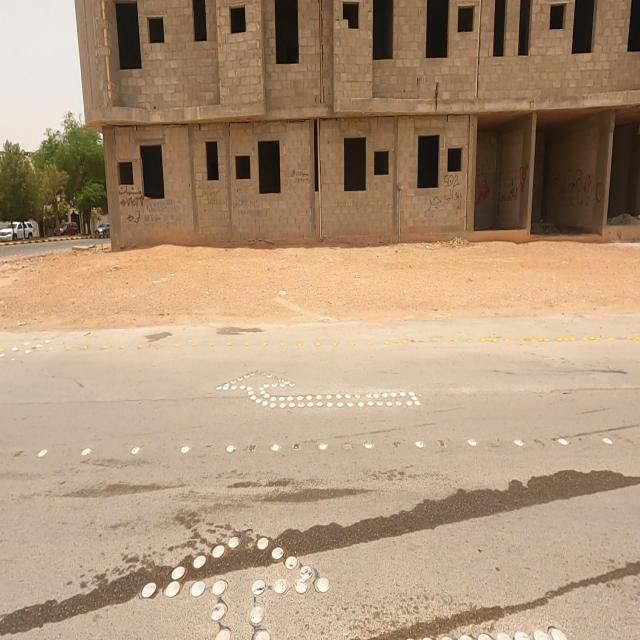debris: (78, 142, 180, 266)
